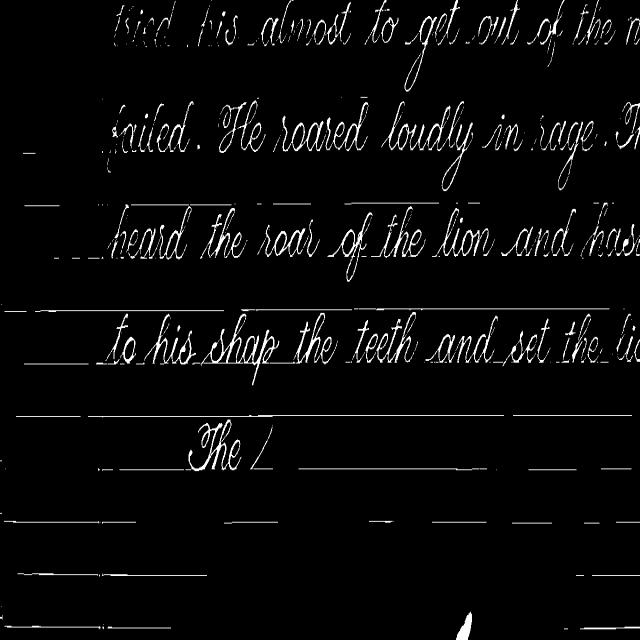hand: (456, 612, 472, 639)
noise: (86, 413, 506, 421), (240, 307, 610, 313), (294, 466, 508, 473), (4, 623, 171, 630), (17, 571, 207, 577), (564, 621, 640, 636), (32, 308, 228, 313), (125, 203, 234, 211), (3, 519, 136, 525), (574, 567, 640, 579), (40, 248, 104, 260), (98, 467, 194, 475), (344, 202, 442, 209), (510, 412, 632, 416), (39, 147, 91, 156), (514, 467, 592, 473), (270, 350, 293, 364), (431, 519, 488, 524), (24, 362, 92, 366), (16, 414, 80, 418), (222, 520, 278, 524), (595, 466, 632, 472), (271, 202, 312, 207), (510, 520, 555, 524), (24, 204, 59, 208), (4, 310, 26, 316), (590, 202, 608, 209), (615, 520, 640, 524), (368, 519, 394, 522), (466, 202, 481, 207), (582, 521, 602, 524), (360, 95, 370, 100), (22, 151, 38, 153), (255, 203, 264, 206), (96, 363, 106, 365), (251, 468, 274, 468)
not-noise: (114, 0, 640, 91), (381, 101, 472, 189), (106, 100, 194, 172), (200, 313, 278, 376), (273, 101, 369, 151), (107, 204, 193, 258), (540, 121, 596, 189), (501, 209, 575, 257), (350, 311, 416, 363), (426, 316, 498, 363), (581, 203, 640, 257), (329, 212, 372, 281), (436, 208, 494, 256), (144, 313, 196, 364), (188, 420, 241, 470), (218, 99, 264, 152), (219, 100, 266, 151), (200, 207, 246, 258), (378, 206, 424, 257), (258, 220, 319, 257), (502, 319, 550, 365), (294, 313, 336, 364), (560, 313, 598, 363), (483, 114, 524, 151), (106, 314, 136, 364), (616, 314, 640, 362), (616, 101, 640, 148), (250, 424, 272, 468), (197, 144, 200, 149), (604, 140, 606, 146)
